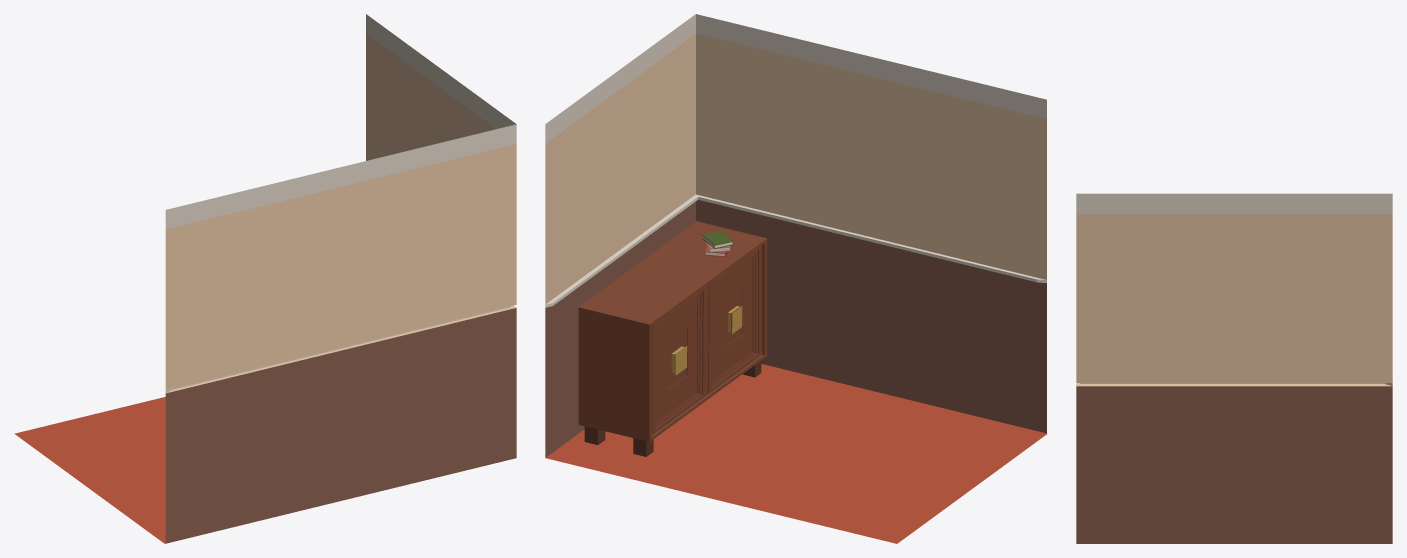
The model's file is apartmentextensionMicah.glb.
The picture shows the model from 3 angles, left to right: view 1: azimuth 30°, elevation 25°; view 2: azimuth 150°, elevation 25°; view 3: azimuth 270°, elevation 25°; orthographic projection. The views are drawn at different scales.
Parts seen in each view (by area): view 1: Cube.011; view 2: Cube.011, desk; view 3: Cube.011.
Boxes of the visible parts, x1,y1,x2,y2 form: Cube.011: (14,14,516,543); Cube.011: (545,14,1047,543); desk: (578,221,767,456); Cube.011: (1076,193,1392,543).
Size of the model in its own units: 2.7 by 2.45 by 2.
Materials: 2 (2 with a texture image).
